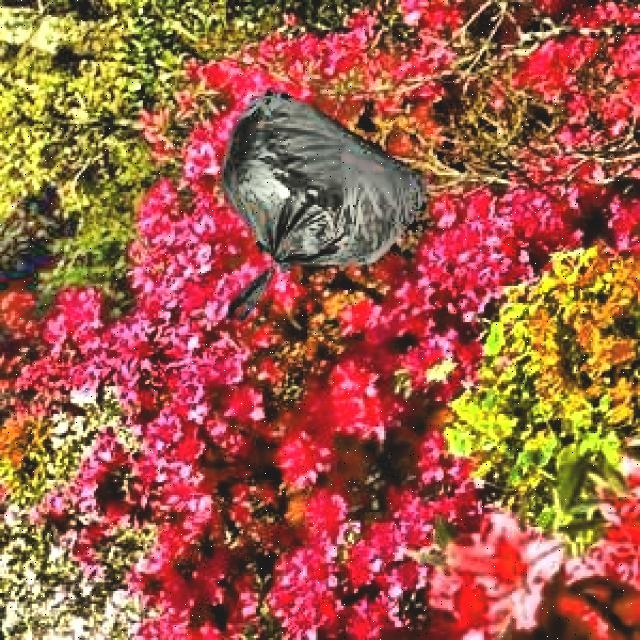Trashbag: (212, 84, 424, 330)
